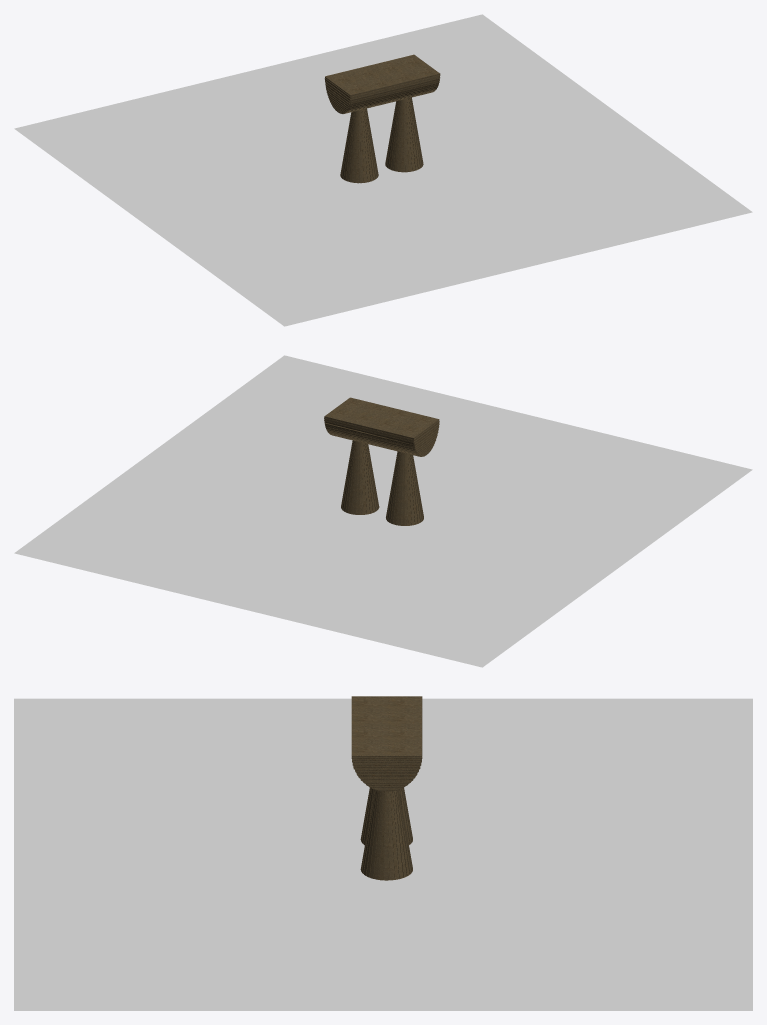
File: spomenikmitrovica.glb
The picture shows the model from 3 angles, top to bottom: view 1: azimuth 30°, elevation 25°; view 2: azimuth 150°, elevation 25°; view 3: azimuth 270°, elevation 25°; orthographic projection. The views are drawn at different scales.
Parts seen in each view (by area): view 1: clip, Cylinder.001, Circle.001, Circle.002; view 2: clip, Cylinder.001, Circle.001, Circle.002; view 3: clip, Cylinder.001, Circle.001, Circle.002.
Boxes of the visible parts, box(x1,y1,x2,y2) form: clip: box(14, 14, 752, 326); Cylinder.001: box(324, 54, 440, 113); Circle.001: box(385, 97, 423, 172); Circle.002: box(340, 108, 378, 183); clip: box(14, 355, 752, 667); Cylinder.001: box(324, 397, 439, 456); Circle.001: box(341, 440, 379, 514); Circle.002: box(386, 451, 423, 525); clip: box(14, 698, 752, 1010); Cylinder.001: box(351, 696, 422, 791); Circle.001: box(360, 790, 412, 880); Circle.002: box(360, 787, 412, 845).
Bounding box in the file's own units: 100 × 29.14 × 100.
Materials: 5 (4 with a texture image).
